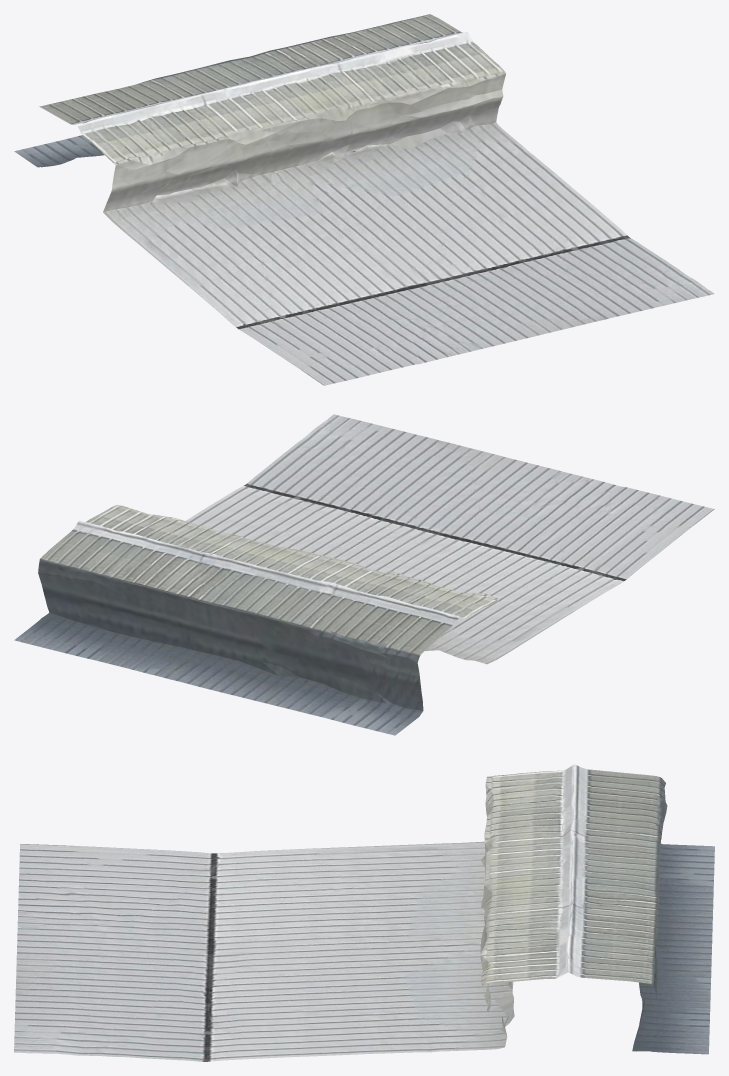
File: Tile_+005_+005_L21_0uuuu101.glb
3 views of the same model, one above another, from view 1: azimuth 30°, elevation 25°; view 2: azimuth 150°, elevation 25°; view 3: azimuth 270°, elevation 25° (orthographic). The views are drawn at different scales.
Visible parts, largest first — view 1: rtc; view 2: rtc; view 3: rtc.
Part boxes in pixels (x1=…): rtc: x1=14, y1=14, x2=714, y2=385; rtc: x1=14, y1=414, x2=714, y2=735; rtc: x1=14, y1=764, x2=714, y2=1061.
Bounding box in the file's own units: 16.53 × 3.4 × 23.15.
1 material, 1 textured.
